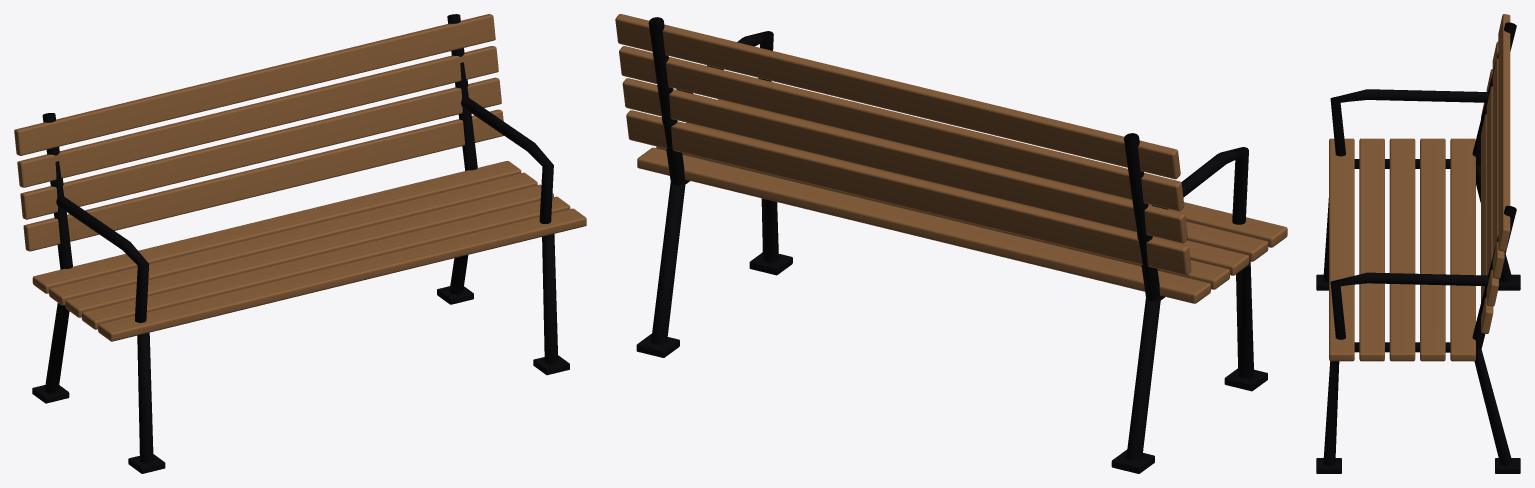
The model's file is garden_bench.glb.
3 renders of one model, left to right at view 1: azimuth 30°, elevation 25°; view 2: azimuth 150°, elevation 25°; view 3: azimuth 270°, elevation 25°, orthographic. The views are drawn at different scales.
Parts seen in each view (by area): view 1: Body; view 2: Body; view 3: Body.
Part boxes in pixels (<box>): Body: <box>14,14,586,473</box>; Body: <box>615,14,1287,473</box>; Body: <box>1316,14,1520,473</box>.
Size of the model in its own units: 1.6 by 0.9084 by 0.64.
